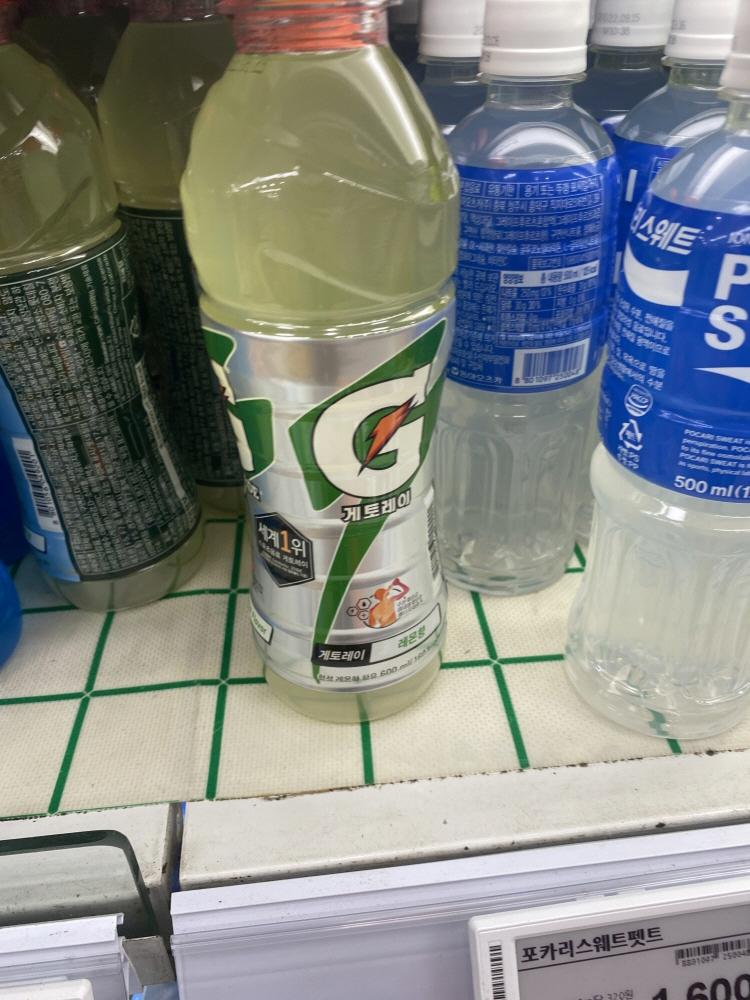gatorade_lemon: (178, 0, 460, 745)
